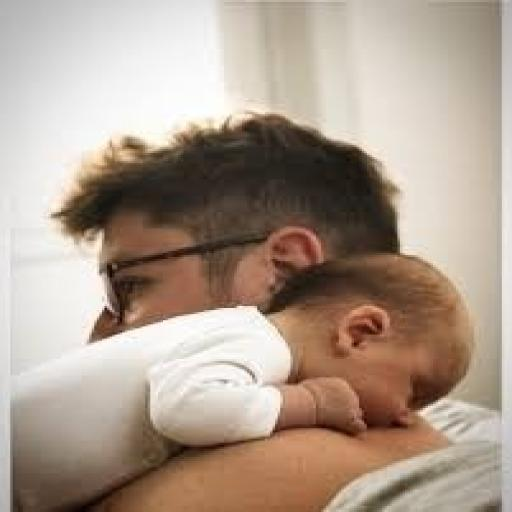hugging: (5, 108, 494, 510)
